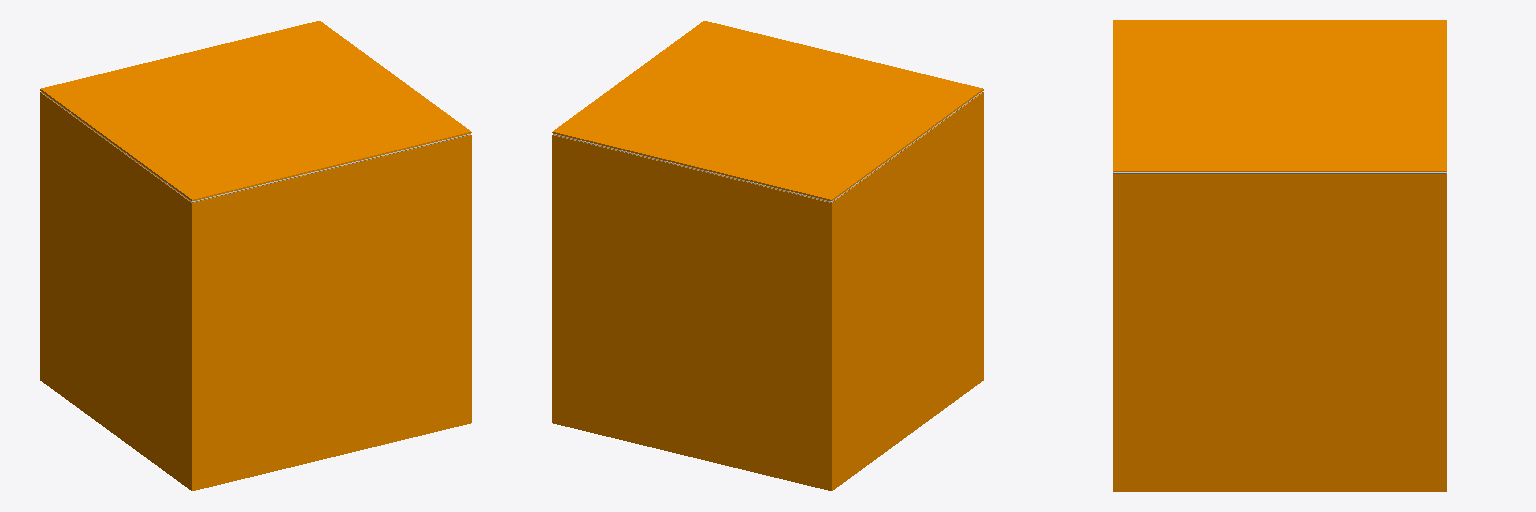
robot.urdf — box:
<?xml version="1.0" ?>
<robot name="box">
  <link name="box_body">
    <visual>
      <origin xyz="0 0 0" rpy="0 0 0" />
      <geometry>
        <mesh filename="package://mujoco_world/model/box/urdf/meshes/BoxBottom.dae"/>
      </geometry>
    </visual>
    <visual>
      <origin xyz="0 0 0" rpy="0 0 0" />
      <geometry>
        <mesh filename="package://mujoco_world/model/box/urdf/meshes/BoxWall1.dae"/>
      </geometry>
    </visual>
    <visual>
      <origin xyz="0 0 0" rpy="0 0 0" />
      <geometry>
        <mesh filename="package://mujoco_world/model/box/urdf/meshes/BoxWall2.dae"/>
      </geometry>
    </visual>
    <visual>
      <origin xyz="0 0 0" rpy="0 0 0" />
      <geometry>
        <mesh filename="package://mujoco_world/model/box/urdf/meshes/BoxWall3.dae"/>
      </geometry>
    </visual>
    <visual>
      <origin xyz="0 0 0" rpy="0 0 0" />
      <geometry>
        <mesh filename="package://mujoco_world/model/box/urdf/meshes/BoxWall4.dae"/>
      </geometry>
    </visual>
    <collision>
      <origin xyz="0 0 -0.1675" rpy="0 0 0" />
      <geometry>
        <box size="0.34 0.32 0.005"/>
      </geometry>
    </collision>
    <collision>
      <origin xyz="0.167578  0 -0.0025" rpy="0 0 0" />
      <geometry>
        <box size="0.005156 0.32 0.335"/>
      </geometry>
    </collision>
    <collision>
      <origin xyz="-0.167578  0 -0.0025" rpy="0 0 0" />
      <geometry>
        <box size="0.005156 0.32 0.335"/>
      </geometry>
    </collision>
    <collision>
      <origin xyz="0 0.1575 -0.0025" rpy="0 0 0" />
      <geometry>
        <box size="0.340312 0.005 0.335"/>
      </geometry>
    </collision>
    <collision>
      <origin xyz="0 -0.1575 -0.0025" rpy="0 0 0" />
      <geometry>
        <box size="0.340312 0.005 0.335"/>
      </geometry>
    </collision>
  </link>

  <joint name="box_flap_side_2_joint" type="continuous">
    <origin xyz="0.17 0 0.166" rpy="0 0 0" />
    <parent link="box_body"/>
    <child link="box_flap_side_2"/>
    <axis xyz="0 1 0" />
  </joint>
  <link name="box_flap_side_2">
    <visual>
      <geometry>
        <mesh filename="package://mujoco_world/model/box/urdf/meshes/BoxFlapSide2.dae"/>
      </geometry>
    </visual>
    <collision>
      <geometry>
        <mesh filename="package://mujoco_world/model/box/urdf/meshes/BoxFlapSide2.stl"/>
      </geometry>
    </collision>
  </link>

  <joint name="box_flap_side_1_joint" type="continuous">
    <origin xyz="-0.17 0 0.168" rpy="0 0 0" />
    <parent link="box_body"/>
    <child link="box_flap_side_1"/>
    <axis xyz="0 -1 0" />
  </joint>
  <link name="box_flap_side_1">
    <visual>
      <geometry>
        <mesh filename="package://mujoco_world/model/box/urdf/meshes/BoxFlapSide1.dae"/>
      </geometry>
    </visual>
    <collision>
      <geometry>
        <mesh filename="package://mujoco_world/model/box/urdf/meshes/BoxFlapSide1.stl"/>
      </geometry>
    </collision>
  </link>
</robot>

--- Render facts (derived) ---
3 views of the same robot in one strip: view 1: azimuth 30°, elevation 25°; view 2: azimuth 150°, elevation 25°; view 3: azimuth 270°, elevation 25° (orthographic).
Robot: box — 3 links, 2 joints (2 continuous); root link box_body; default pose: every joint at zero.
Links seen in each view (by area): view 1: box_body, box_flap_side_1, box_flap_side_2; view 2: box_body, box_flap_side_1, box_flap_side_2; view 3: box_body, box_flap_side_1, box_flap_side_2.
Link boxes in pixels (x1,y1,x2,y2): box_body: (40,92,471,490); box_flap_side_1: (40,21,471,200); box_flap_side_2: (41,91,470,202); box_body: (552,92,983,490); box_flap_side_1: (552,21,983,200); box_flap_side_2: (553,91,982,202); box_body: (1113,174,1446,491); box_flap_side_1: (1113,20,1446,171); box_flap_side_2: (1113,172,1446,173).
Bounding box of the posed robot: 0.3403 × 0.32 × 0.339 m (x, y, z).
Meshes: 7 distinct files referenced, 7 mesh visuals loaded (7 Collada DAE).